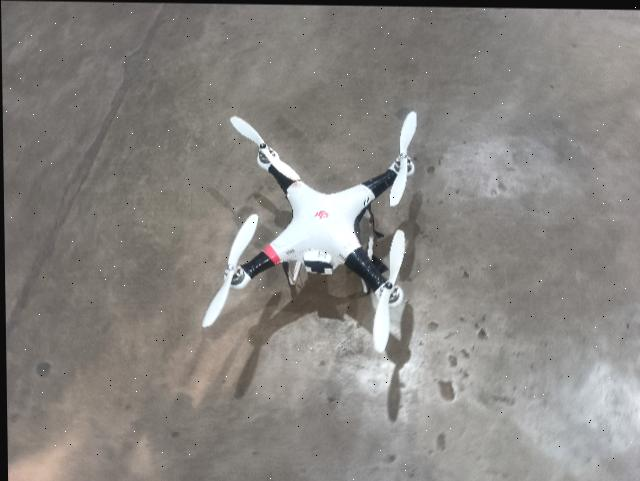drone: (193, 98, 460, 375)
